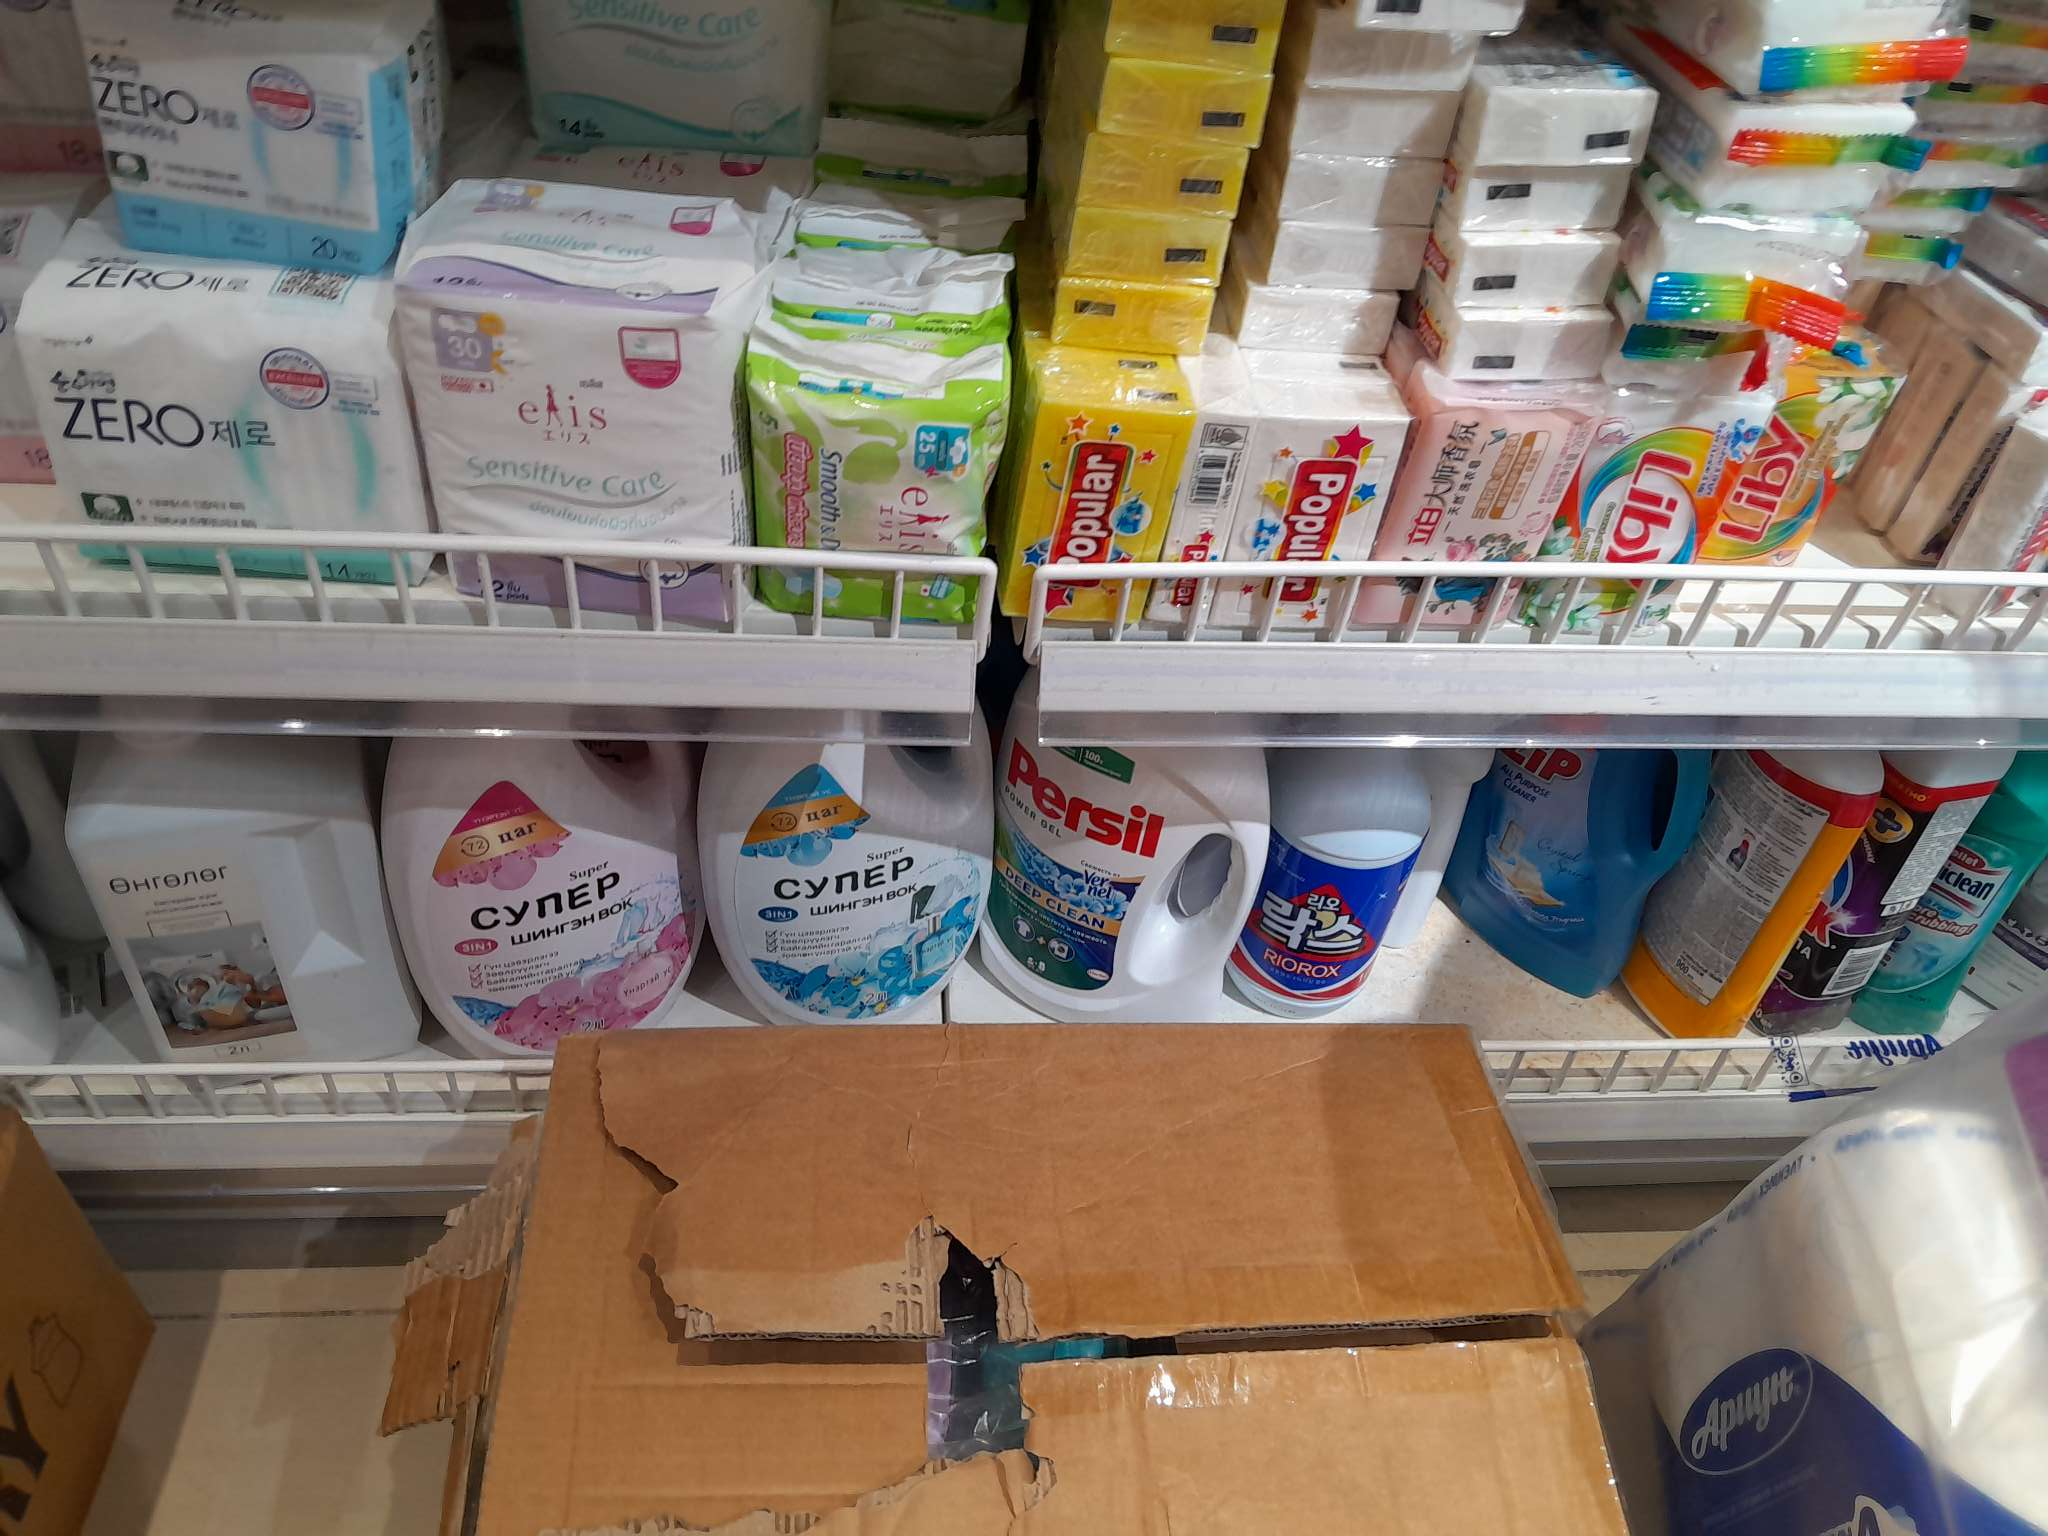elis: (408, 229, 737, 603), (750, 300, 992, 624)
liby: (1738, 352, 1840, 566), (1596, 395, 1696, 599)
persil: (998, 705, 1222, 1005)
popular: (1040, 374, 1159, 626), (1247, 395, 1358, 621)
super: (361, 733, 674, 1046), (701, 737, 998, 1023)
zero: (34, 258, 413, 521), (76, 6, 395, 250)
